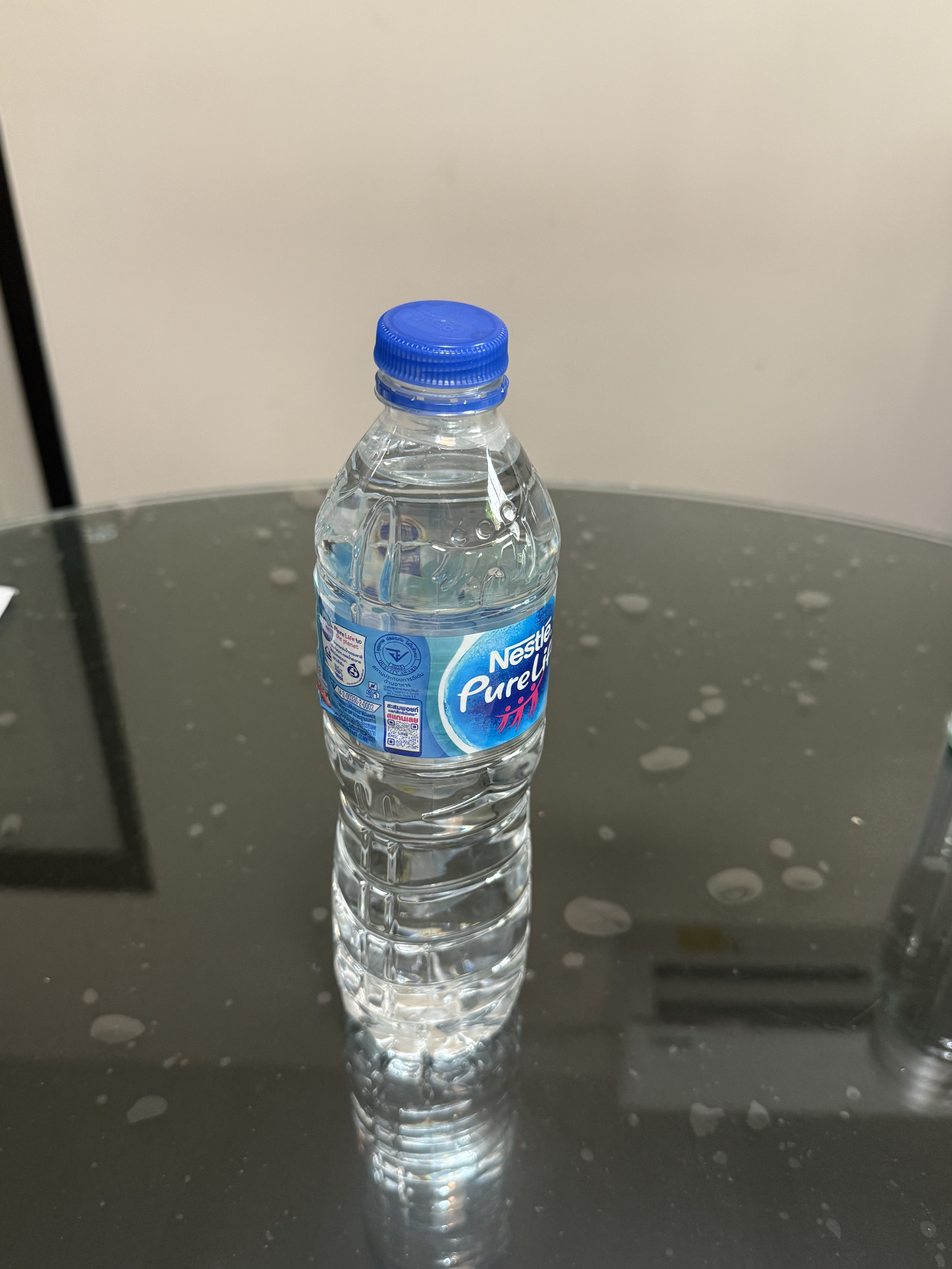half_cap: (368, 295, 512, 413)
